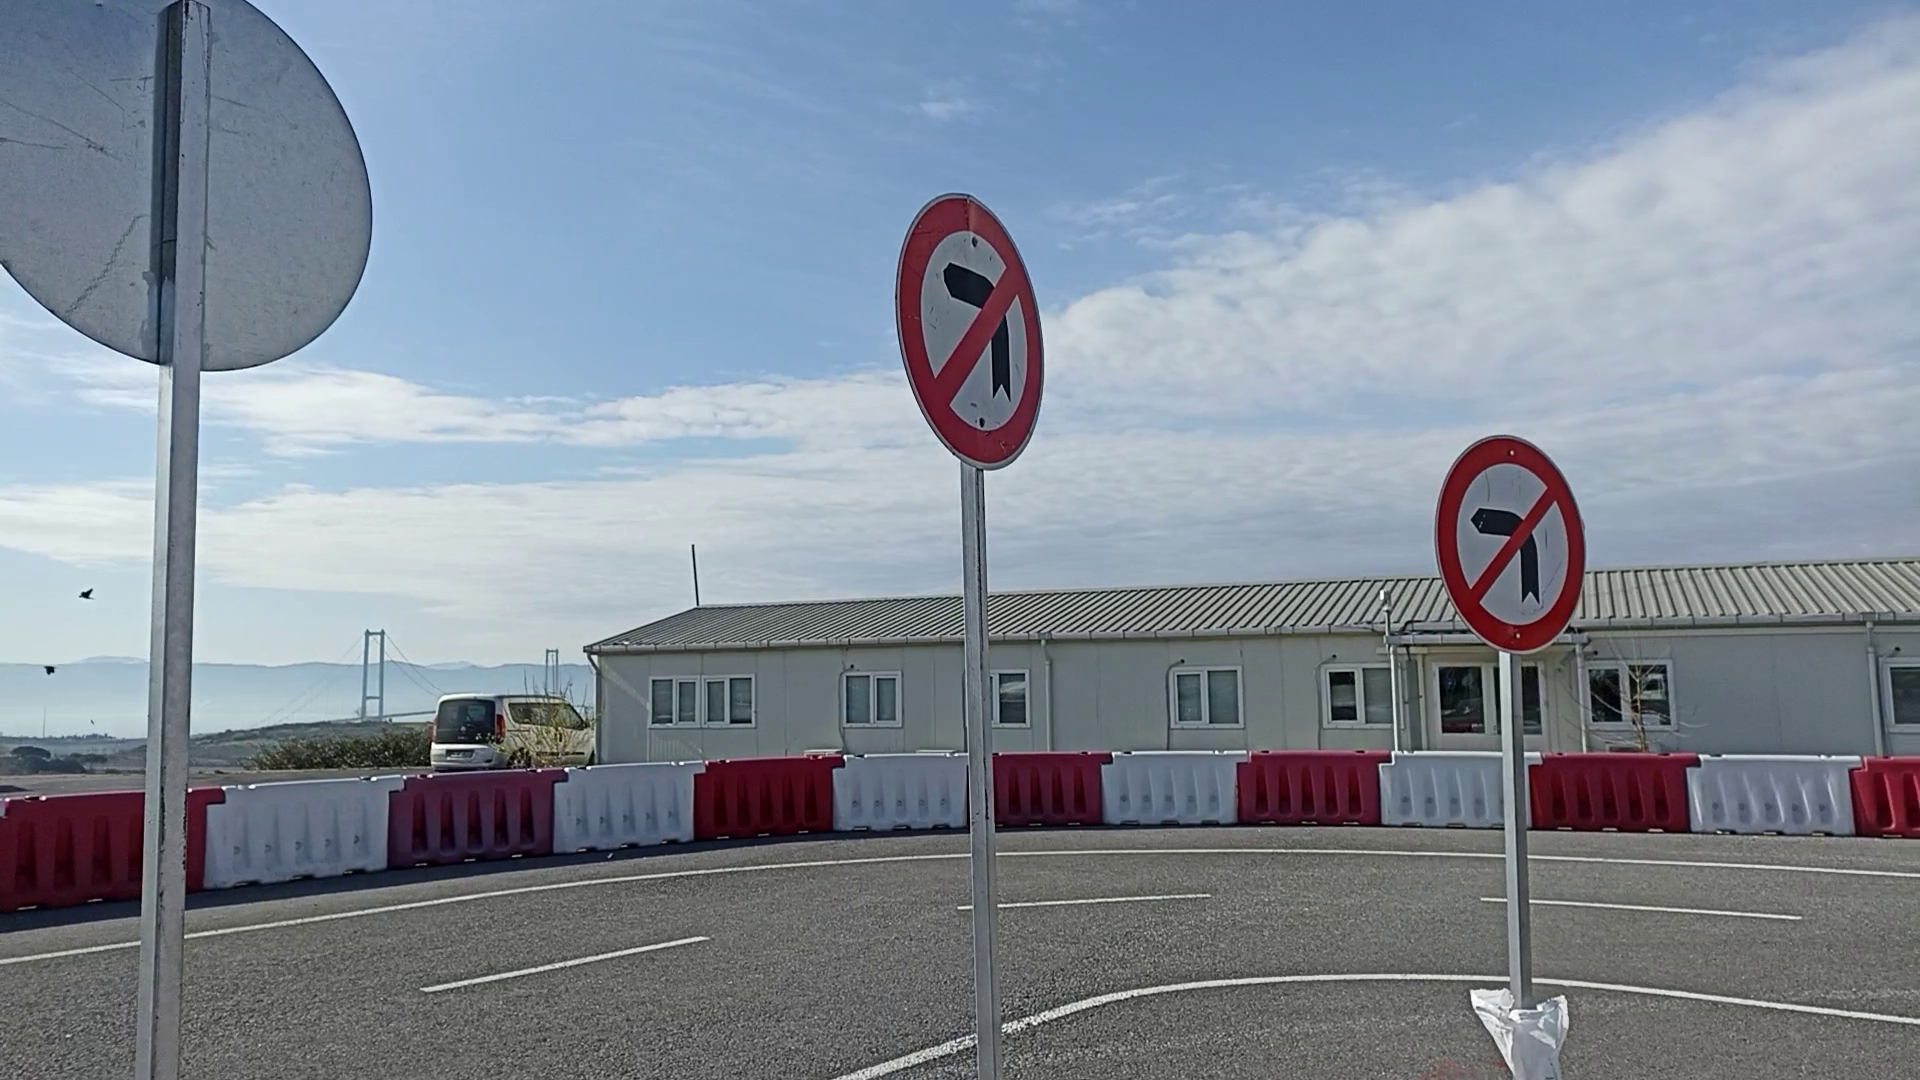noleft: (893, 190, 1048, 479), (1431, 430, 1588, 658)
